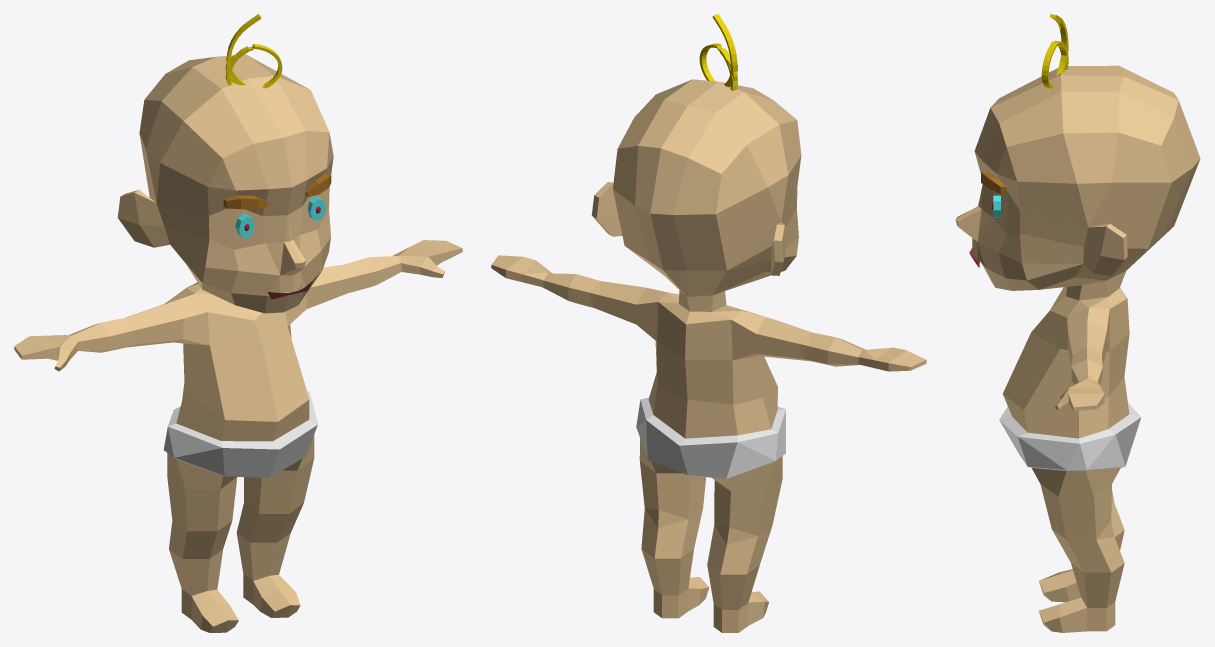
File: Bebek3.fbx
3 views of the same model, side by side, from view 1: azimuth 30°, elevation 25°; view 2: azimuth 150°, elevation 25°; view 3: azimuth 270°, elevation 25° (orthographic). The views are drawn at different scales.
Visible parts, largest first — view 1: baby, BebekGovde, Bacak, BebekKol, BebekBezi, Ayak, Circle, Kas, Goz, Burun; view 2: baby, Bacak, BebekGovde, BebekKol, BebekBezi, Ayak, Circle; view 3: baby, BebekGovde, Bacak, BebekBezi, BebekKol, Ayak, Circle, Burun, Kas.
Part boxes in pixels (x1=…): baby: x1=117, y1=54, x2=333, y2=313; BebekGovde: x1=176, y1=282, x2=309, y2=441; Bacak: x1=167, y1=435, x2=314, y2=595; BebekKol: x1=14, y1=240, x2=462, y2=371; BebekBezi: x1=163, y1=391, x2=317, y2=478; Ayak: x1=181, y1=574, x2=300, y2=632; Circle: x1=225, y1=14, x2=282, y2=88; Kas: x1=223, y1=173, x2=331, y2=209; Goz: x1=235, y1=196, x2=326, y2=238; Burun: x1=280, y1=240, x2=305, y2=275; baby: x1=591, y1=79, x2=801, y2=296; Bacak: x1=639, y1=438, x2=782, y2=609; BebekGovde: x1=648, y1=290, x2=777, y2=438; BebekKol: x1=491, y1=255, x2=926, y2=371; BebekBezi: x1=636, y1=397, x2=785, y2=478; Ayak: x1=653, y1=577, x2=768, y2=632; Circle: x1=699, y1=14, x2=738, y2=90; baby: x1=972, y1=65, x2=1200, y2=290; BebekGovde: x1=1003, y1=271, x2=1129, y2=438; Bacak: x1=1031, y1=467, x2=1124, y2=607; BebekBezi: x1=999, y1=403, x2=1141, y2=470; BebekKol: x1=1055, y1=308, x2=1109, y2=411; Ayak: x1=1038, y1=569, x2=1115, y2=632; Circle: x1=1041, y1=14, x2=1068, y2=88; Burun: x1=955, y1=206, x2=981, y2=241; Kas: x1=981, y1=172, x2=1006, y2=194.
Size of the model in its own units: 66.99 by 87.79 by 32.54.
